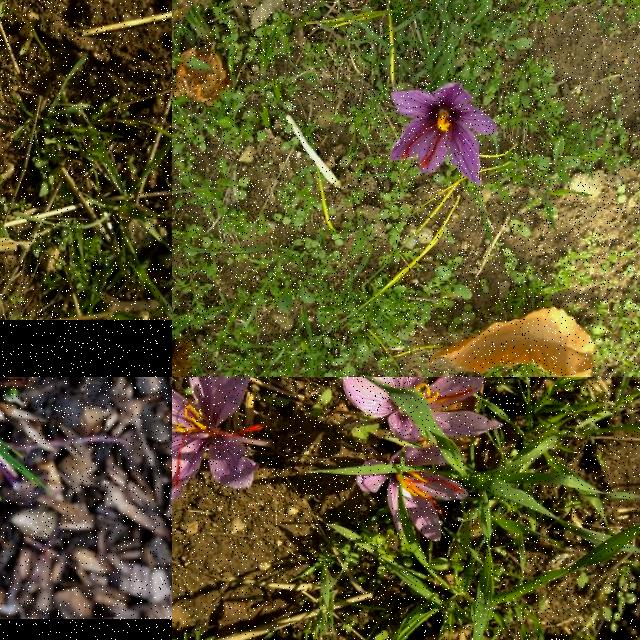flower: (388, 82, 498, 186), (341, 377, 504, 442), (357, 447, 469, 541), (172, 377, 255, 503)
